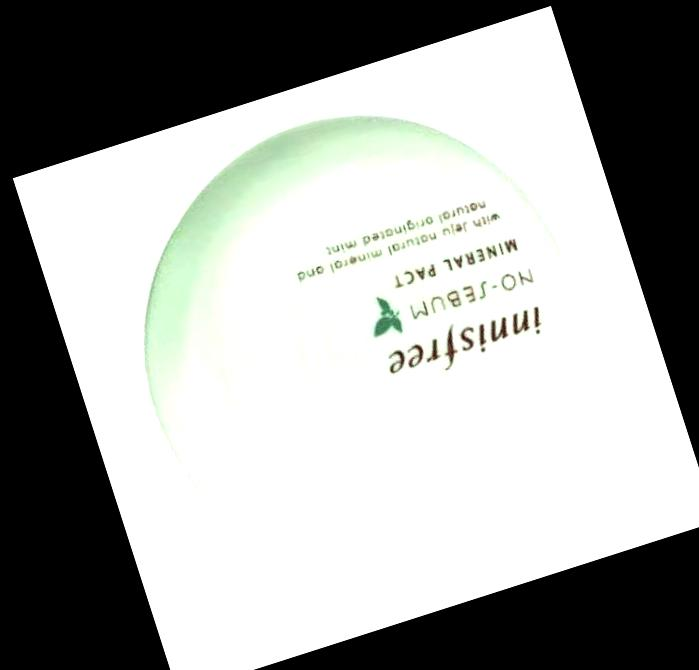cosmetic: (80, 56, 643, 627)
